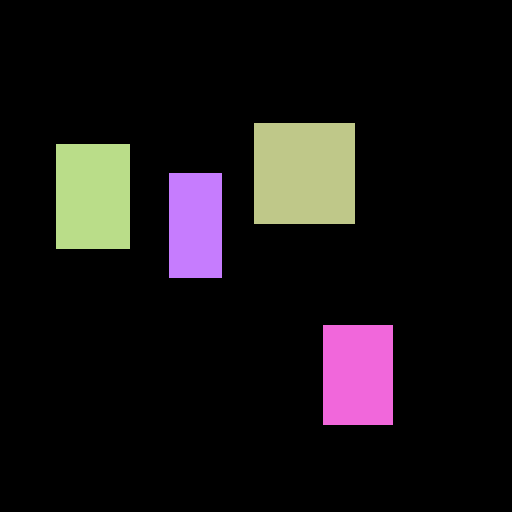rectangle: (56, 144, 129, 248), (323, 325, 392, 424), (169, 173, 221, 277)
square: (254, 123, 354, 223)
